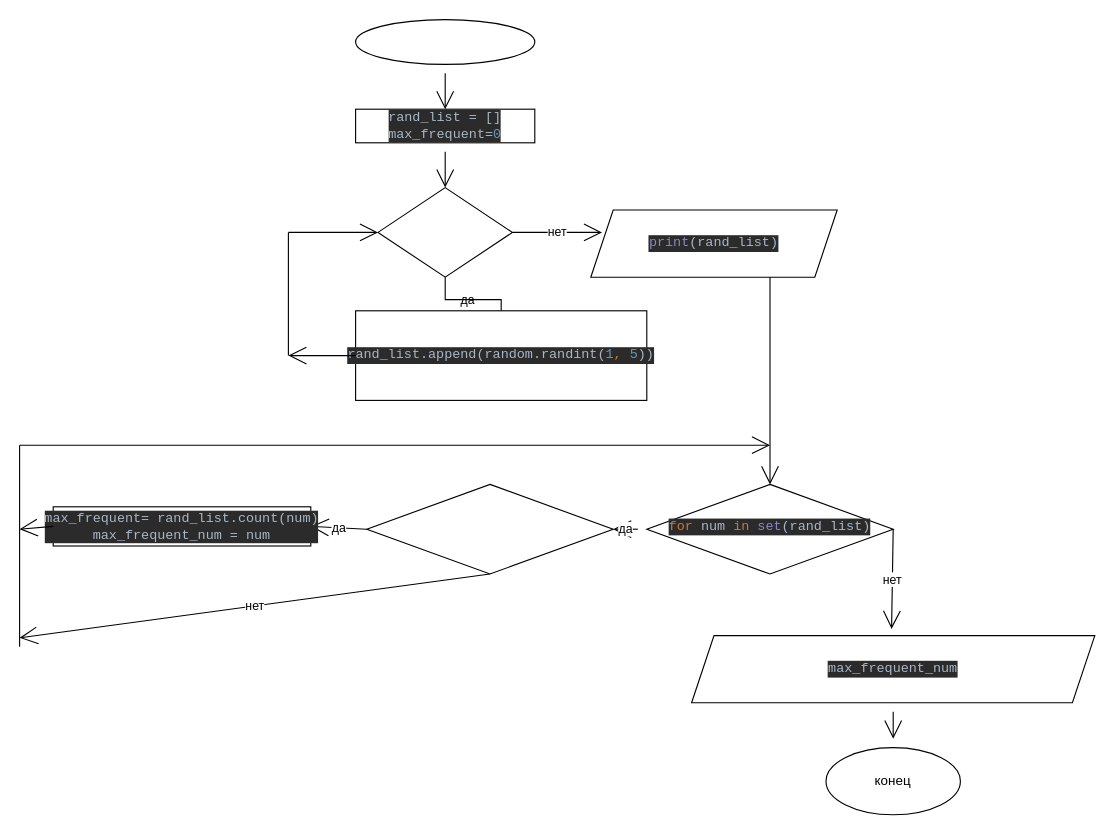
Image size: 1114x834. Some labels were removed from this diagram. The shapes that lost their labels are listed below. From the top down, each one's centre as x and y in pixels, then its label:
pixel 444 41: начало
pixel 444 231: i in range ( 0 , 15 )
pixel 489 528: rand_list.count(num)>=max_frequent
